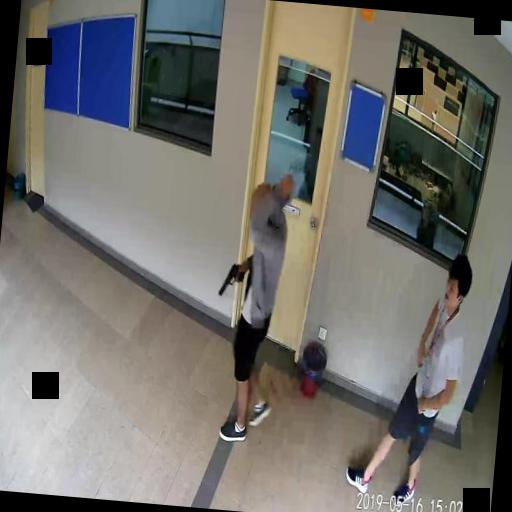Handgun: (218, 261, 244, 297)
